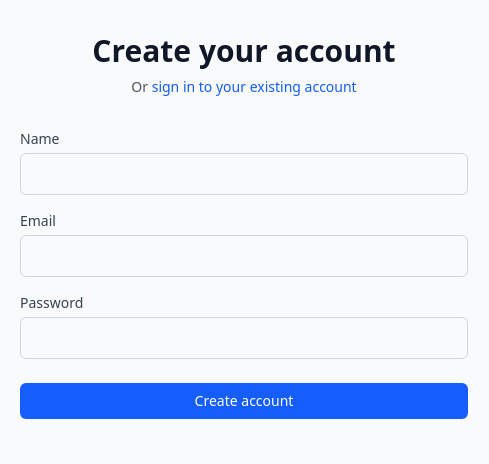
RegisterPage › shows validation messages for an invalid email and short password
The image size is (489, 464).
In the field with id "nameField": {"x": 244, "y": 174} 20,153 -> 468,195, type "Jo"
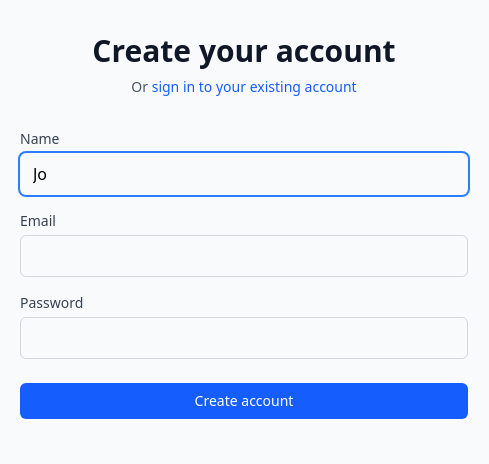
In the field with id "emailField": {"x": 244, "y": 256} 20,235 -> 468,277, type "not-an-email"
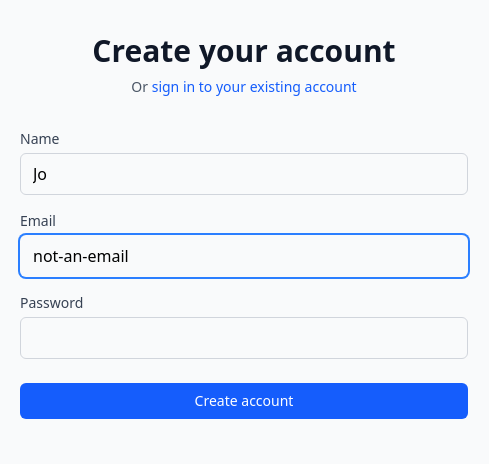
In the password field: {"x": 244, "y": 338} 20,317 -> 468,359, type "123"
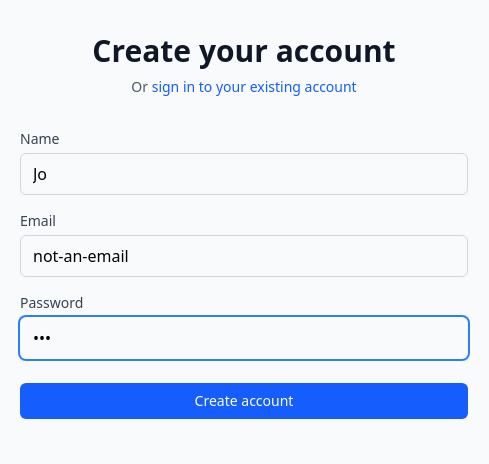
Click the button "Create account": {"x": 244, "y": 401} 20,383 -> 468,419
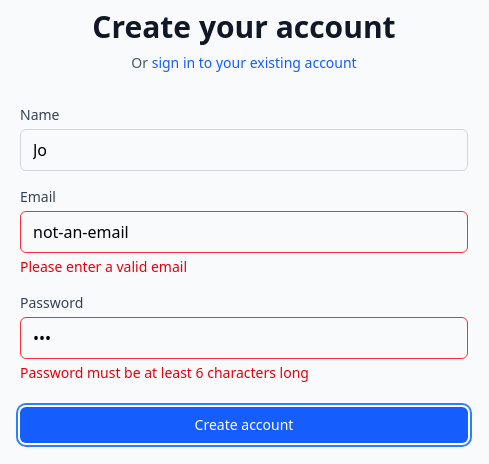
Expected: the text "Please enter a valid email" is shown, 20,257 -> 187,276
Expected: the text "Password must be at least 6 characters long" is shown, 20,363 -> 309,382
